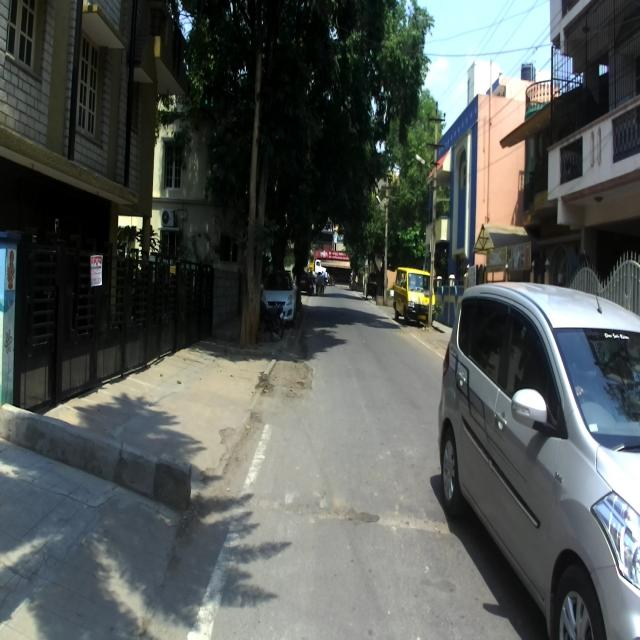Car_Maruti-Suzuki: (438, 248, 639, 638), (261, 269, 297, 329)
mini-bus: (392, 266, 435, 326)
